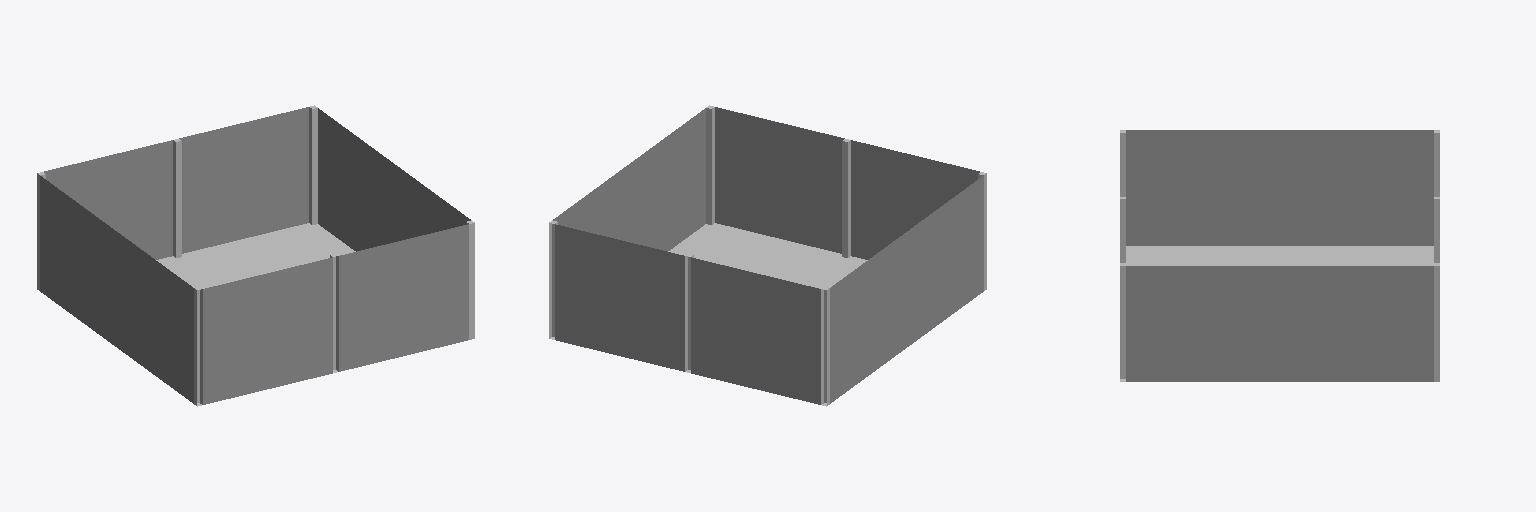
The model's file is level.obj.
3 views of the same model, side by side, from view 1: azimuth 30°, elevation 25°; view 2: azimuth 150°, elevation 25°; view 3: azimuth 270°, elevation 25° (orthographic).
Visible parts, largest first — view 1: Plane; view 2: Plane; view 3: Plane.
Part boxes in pixels (x1,y1,x2,y2): Plane: (37, 105, 474, 406); Plane: (549, 105, 986, 406); Plane: (1120, 130, 1439, 381).
Bounding box in the file's own units: 10 × 4 × 10.